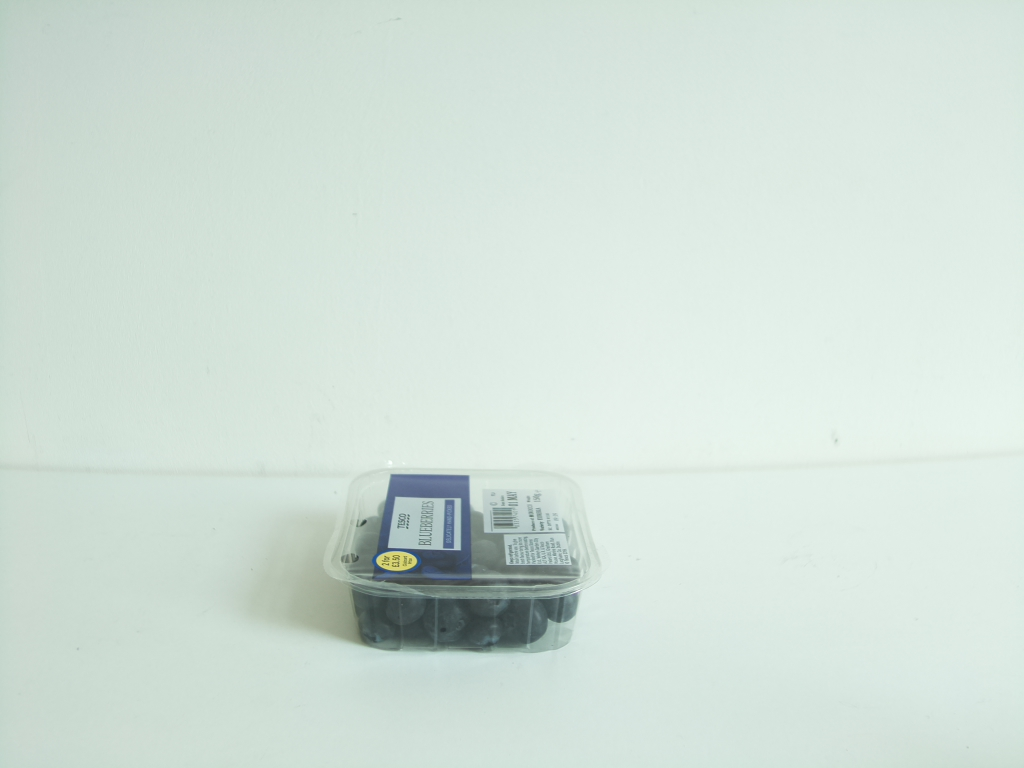soft-fruit: (326, 463, 601, 654)
